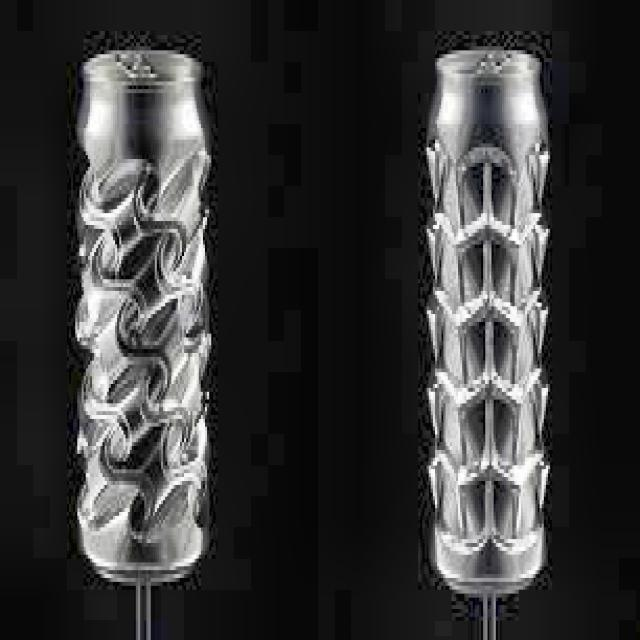can: (67, 42, 218, 590), (424, 38, 548, 602)
